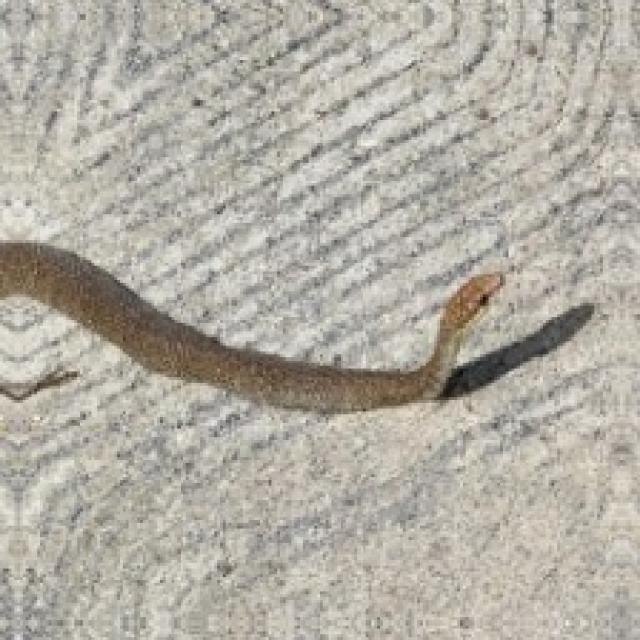paradise tree snake: (0, 243, 500, 409)
